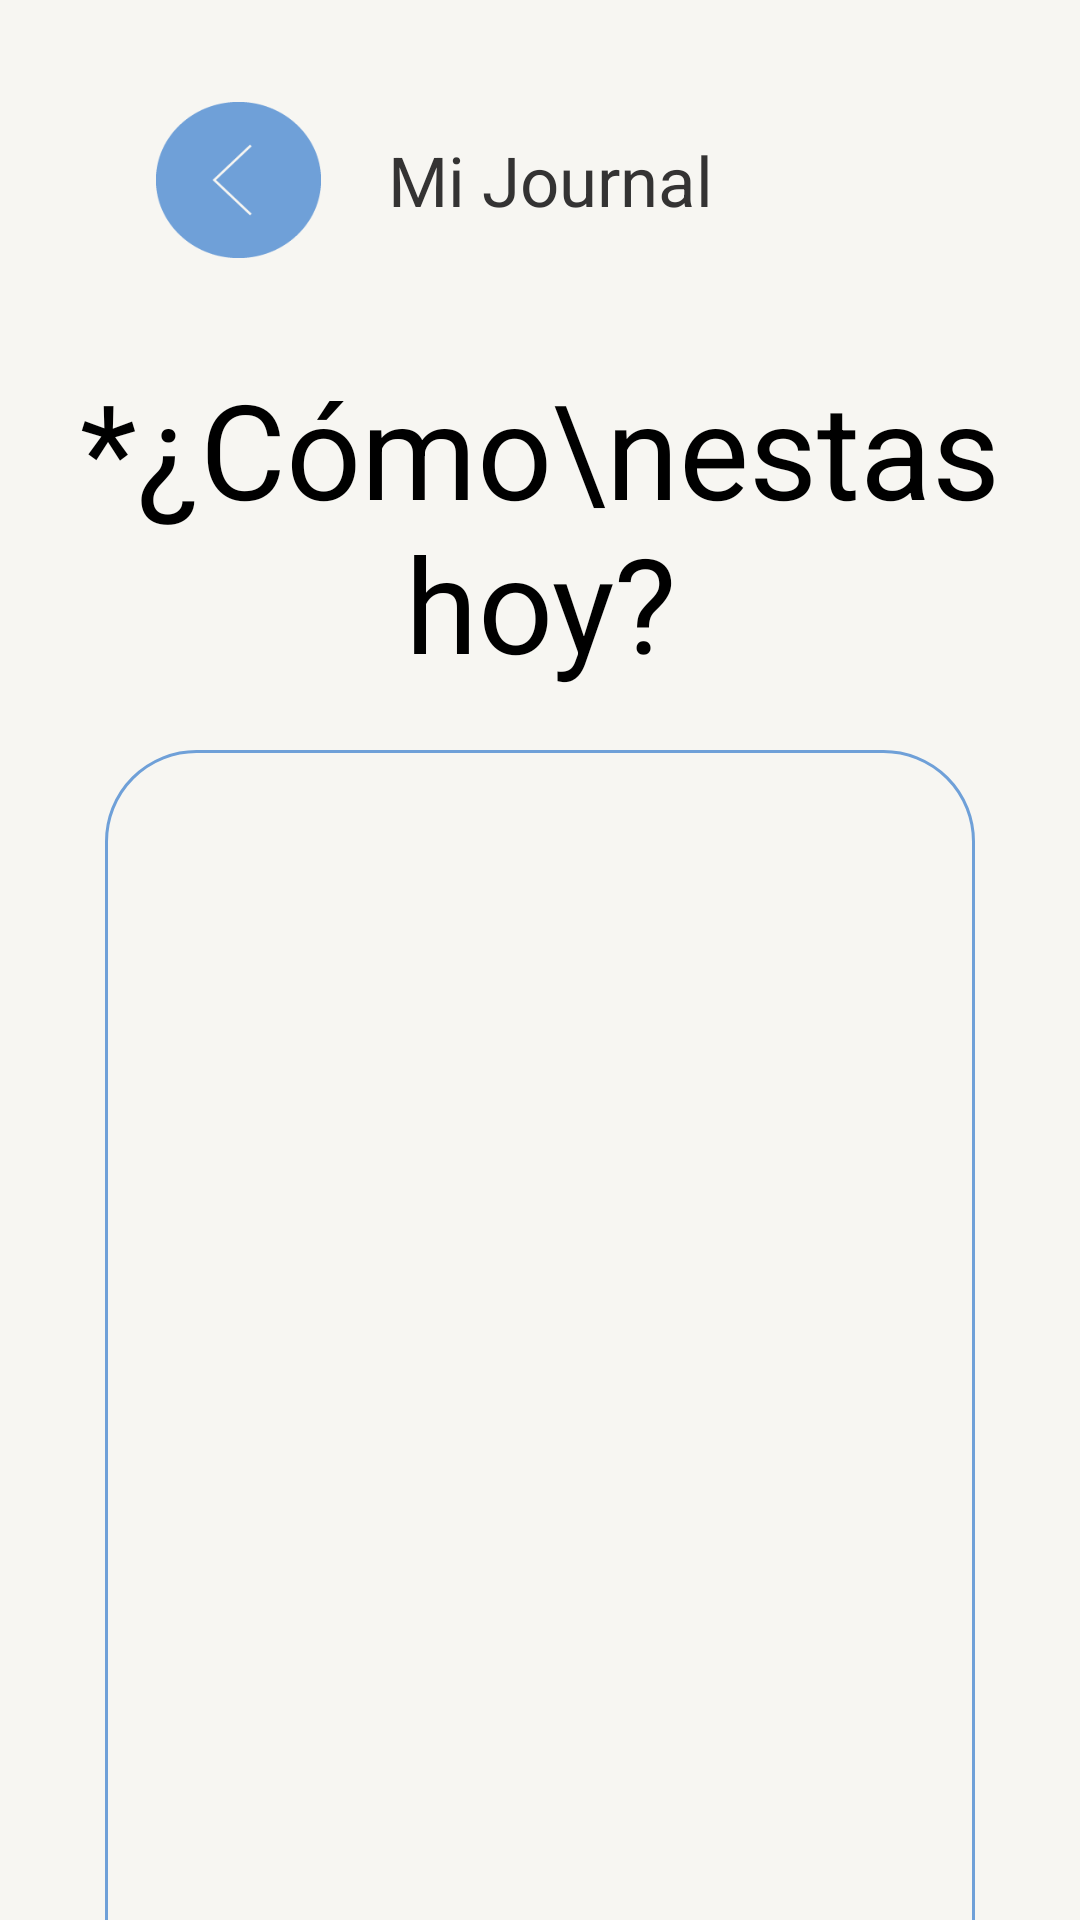

Where icons sit on this 1080 × 1920 app screen, as (x1, y1, x2, y2):
regresar xxxdpi: (156, 102, 321, 258)
